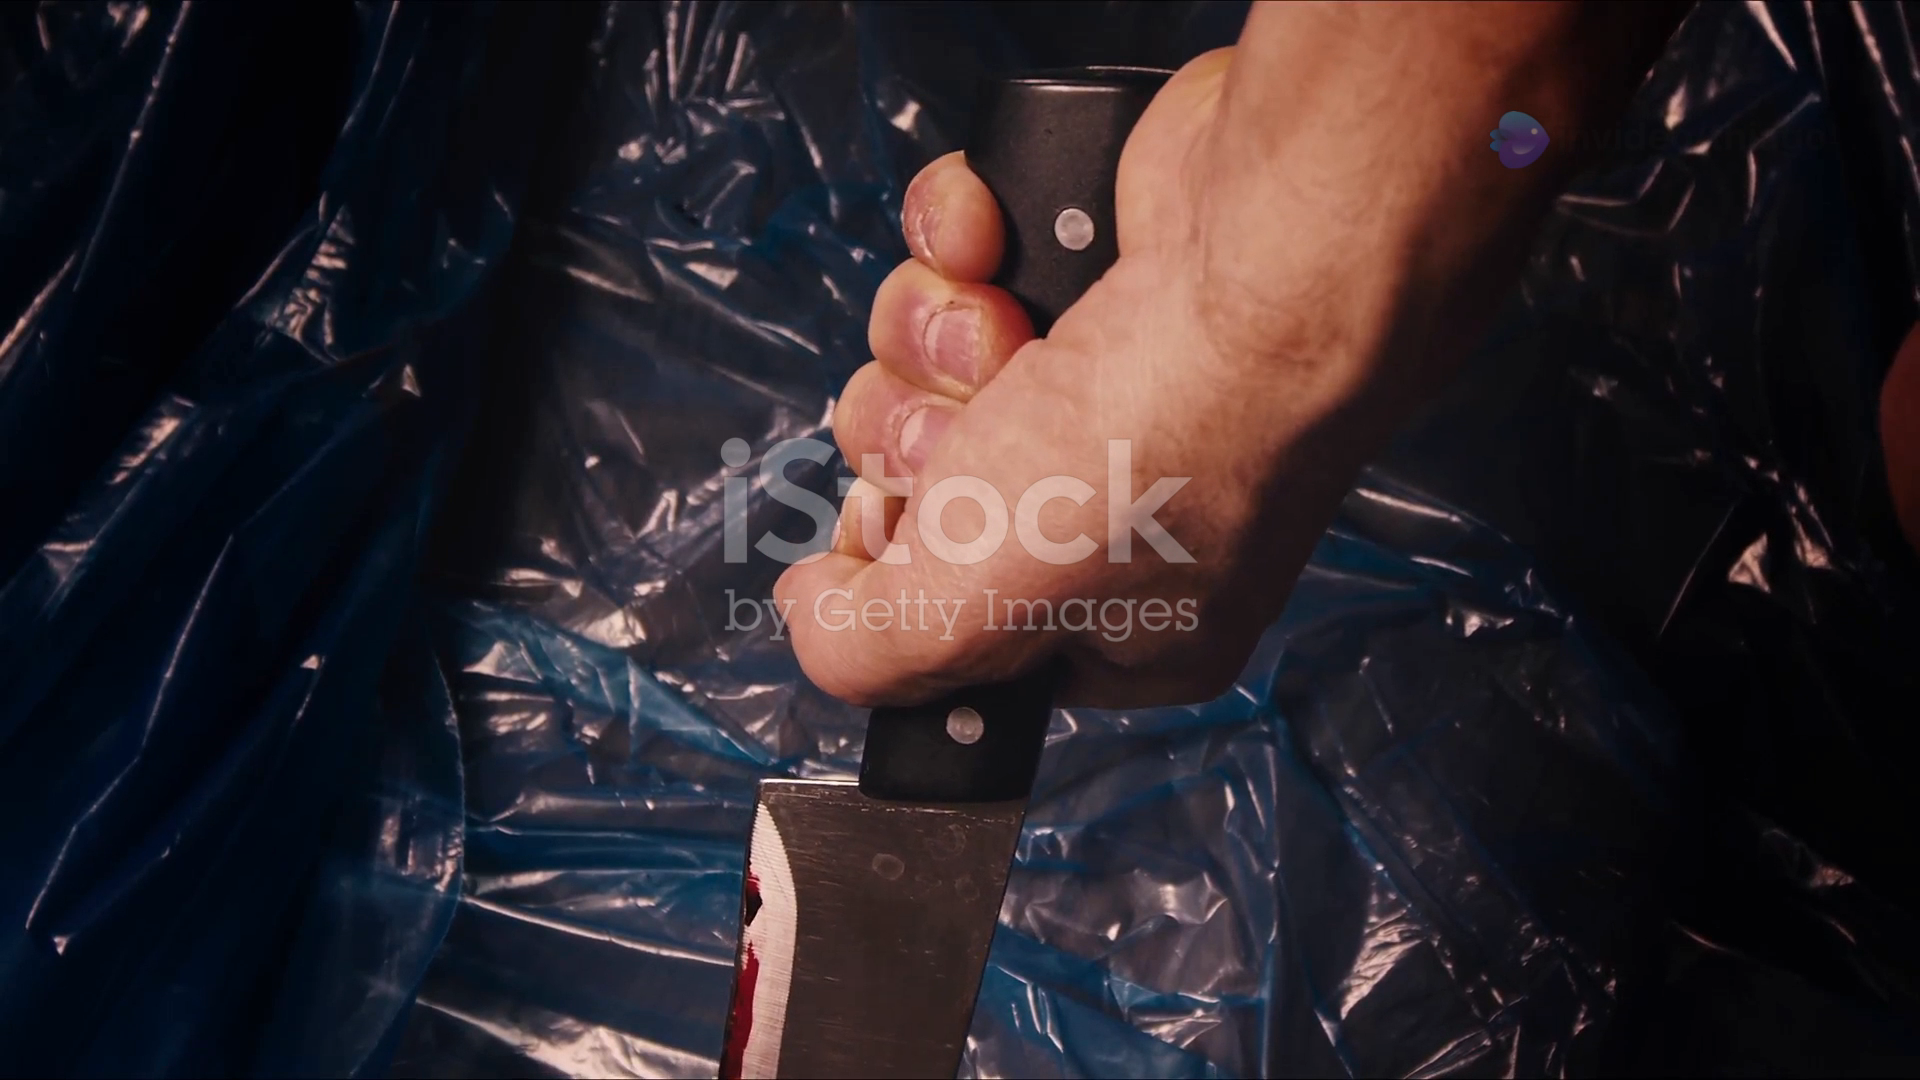cortante: (709, 775, 1034, 1080)
